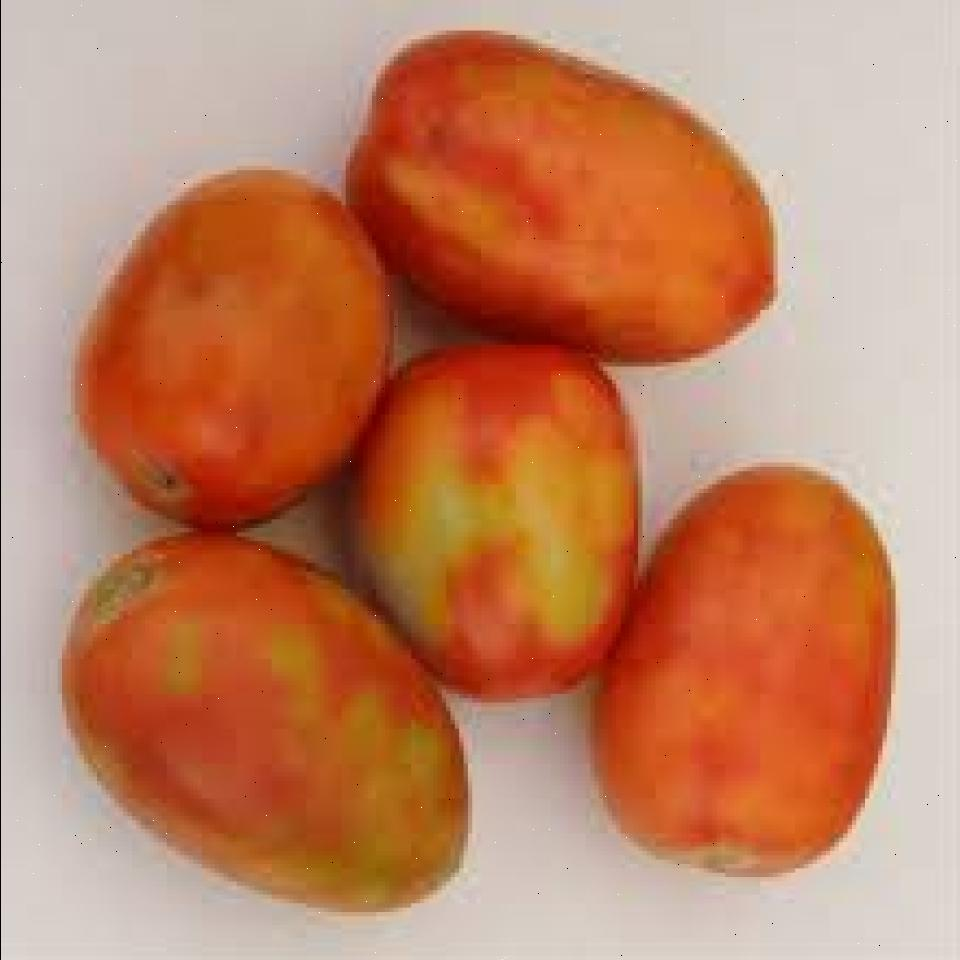Spotted wilt Virus: (57, 532, 467, 916), (345, 26, 777, 367), (589, 463, 895, 864), (74, 170, 388, 532), (345, 345, 637, 703)
